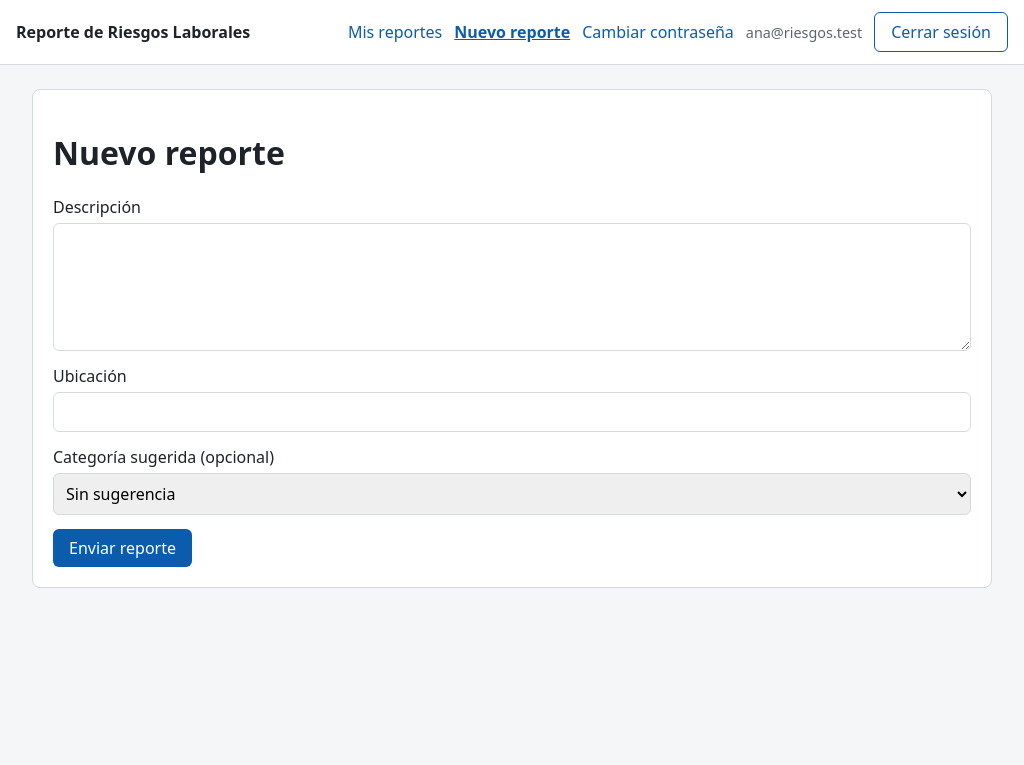
Test: Nuevo reporte › envía descripción, ubicación y categoría sugerida y lleva al detalle
In the text box labelled "Descripción": (512, 287) [53,223,971,351], type "Cable pelado junto al tablero"
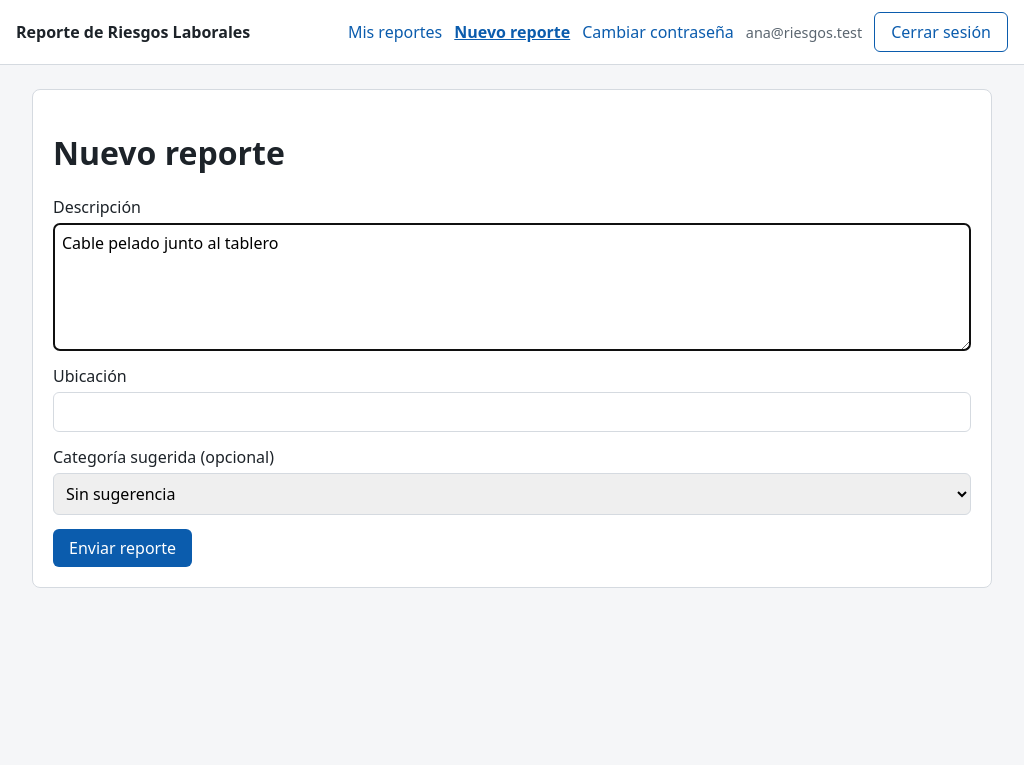
In the field labelled "Ubicación": (512, 412) [53,392,971,432], type "Planta 1"
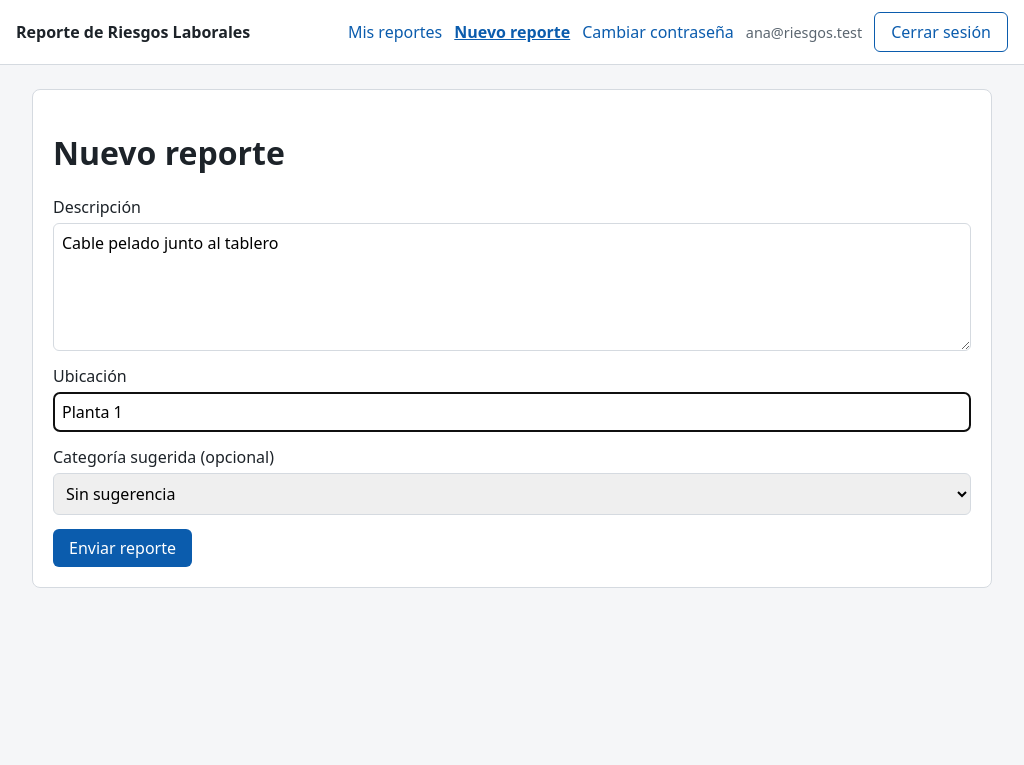
Select "Riesgo eléctrico" in the dropdown labelled "Categoría sugerida (opcional)": (512, 494) [53,473,971,515]
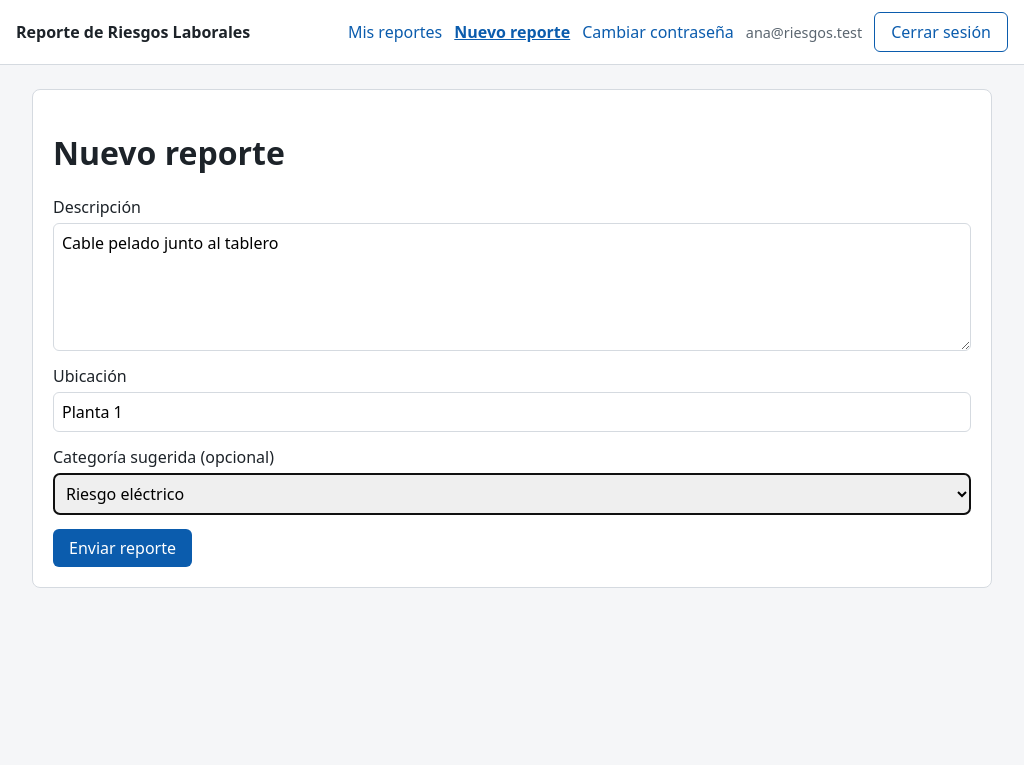
Click the button "Enviar reporte": click(122, 548) [53,529,192,567]
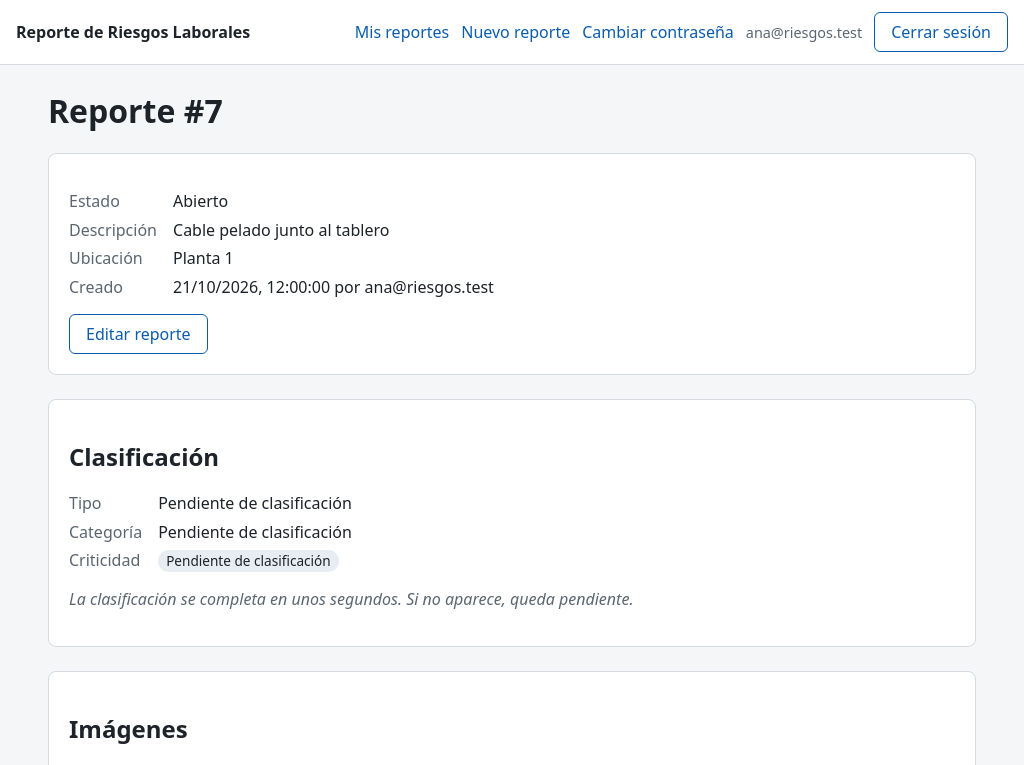
Check: the heading "Reporte #7" is shown, box [48,89,223,132]
Check: the text "Pendiente de clasificación" is shown 3 times, box [158,492,352,514]; [158,521,352,543]; [158,550,339,572]
